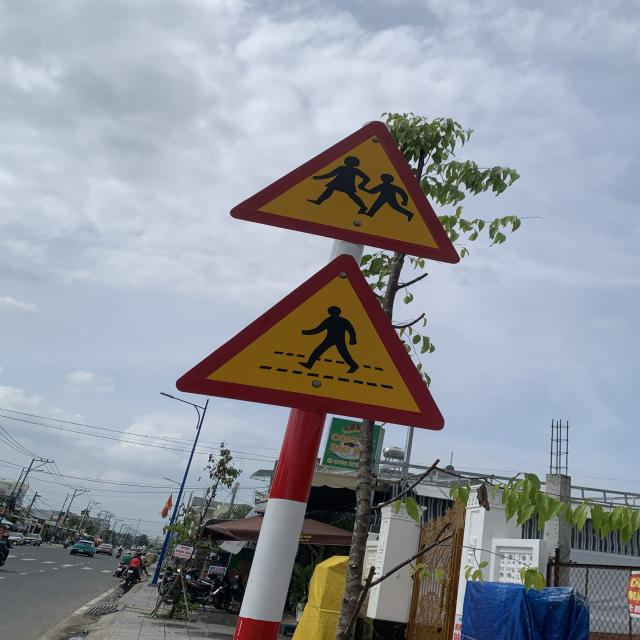Duong_Nguoi_Di_Bo_Sang_Ngang: (177, 252, 446, 429)
Vong_Xuyen: (228, 120, 462, 264)
